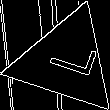L_W: (36, 38, 96, 84)
